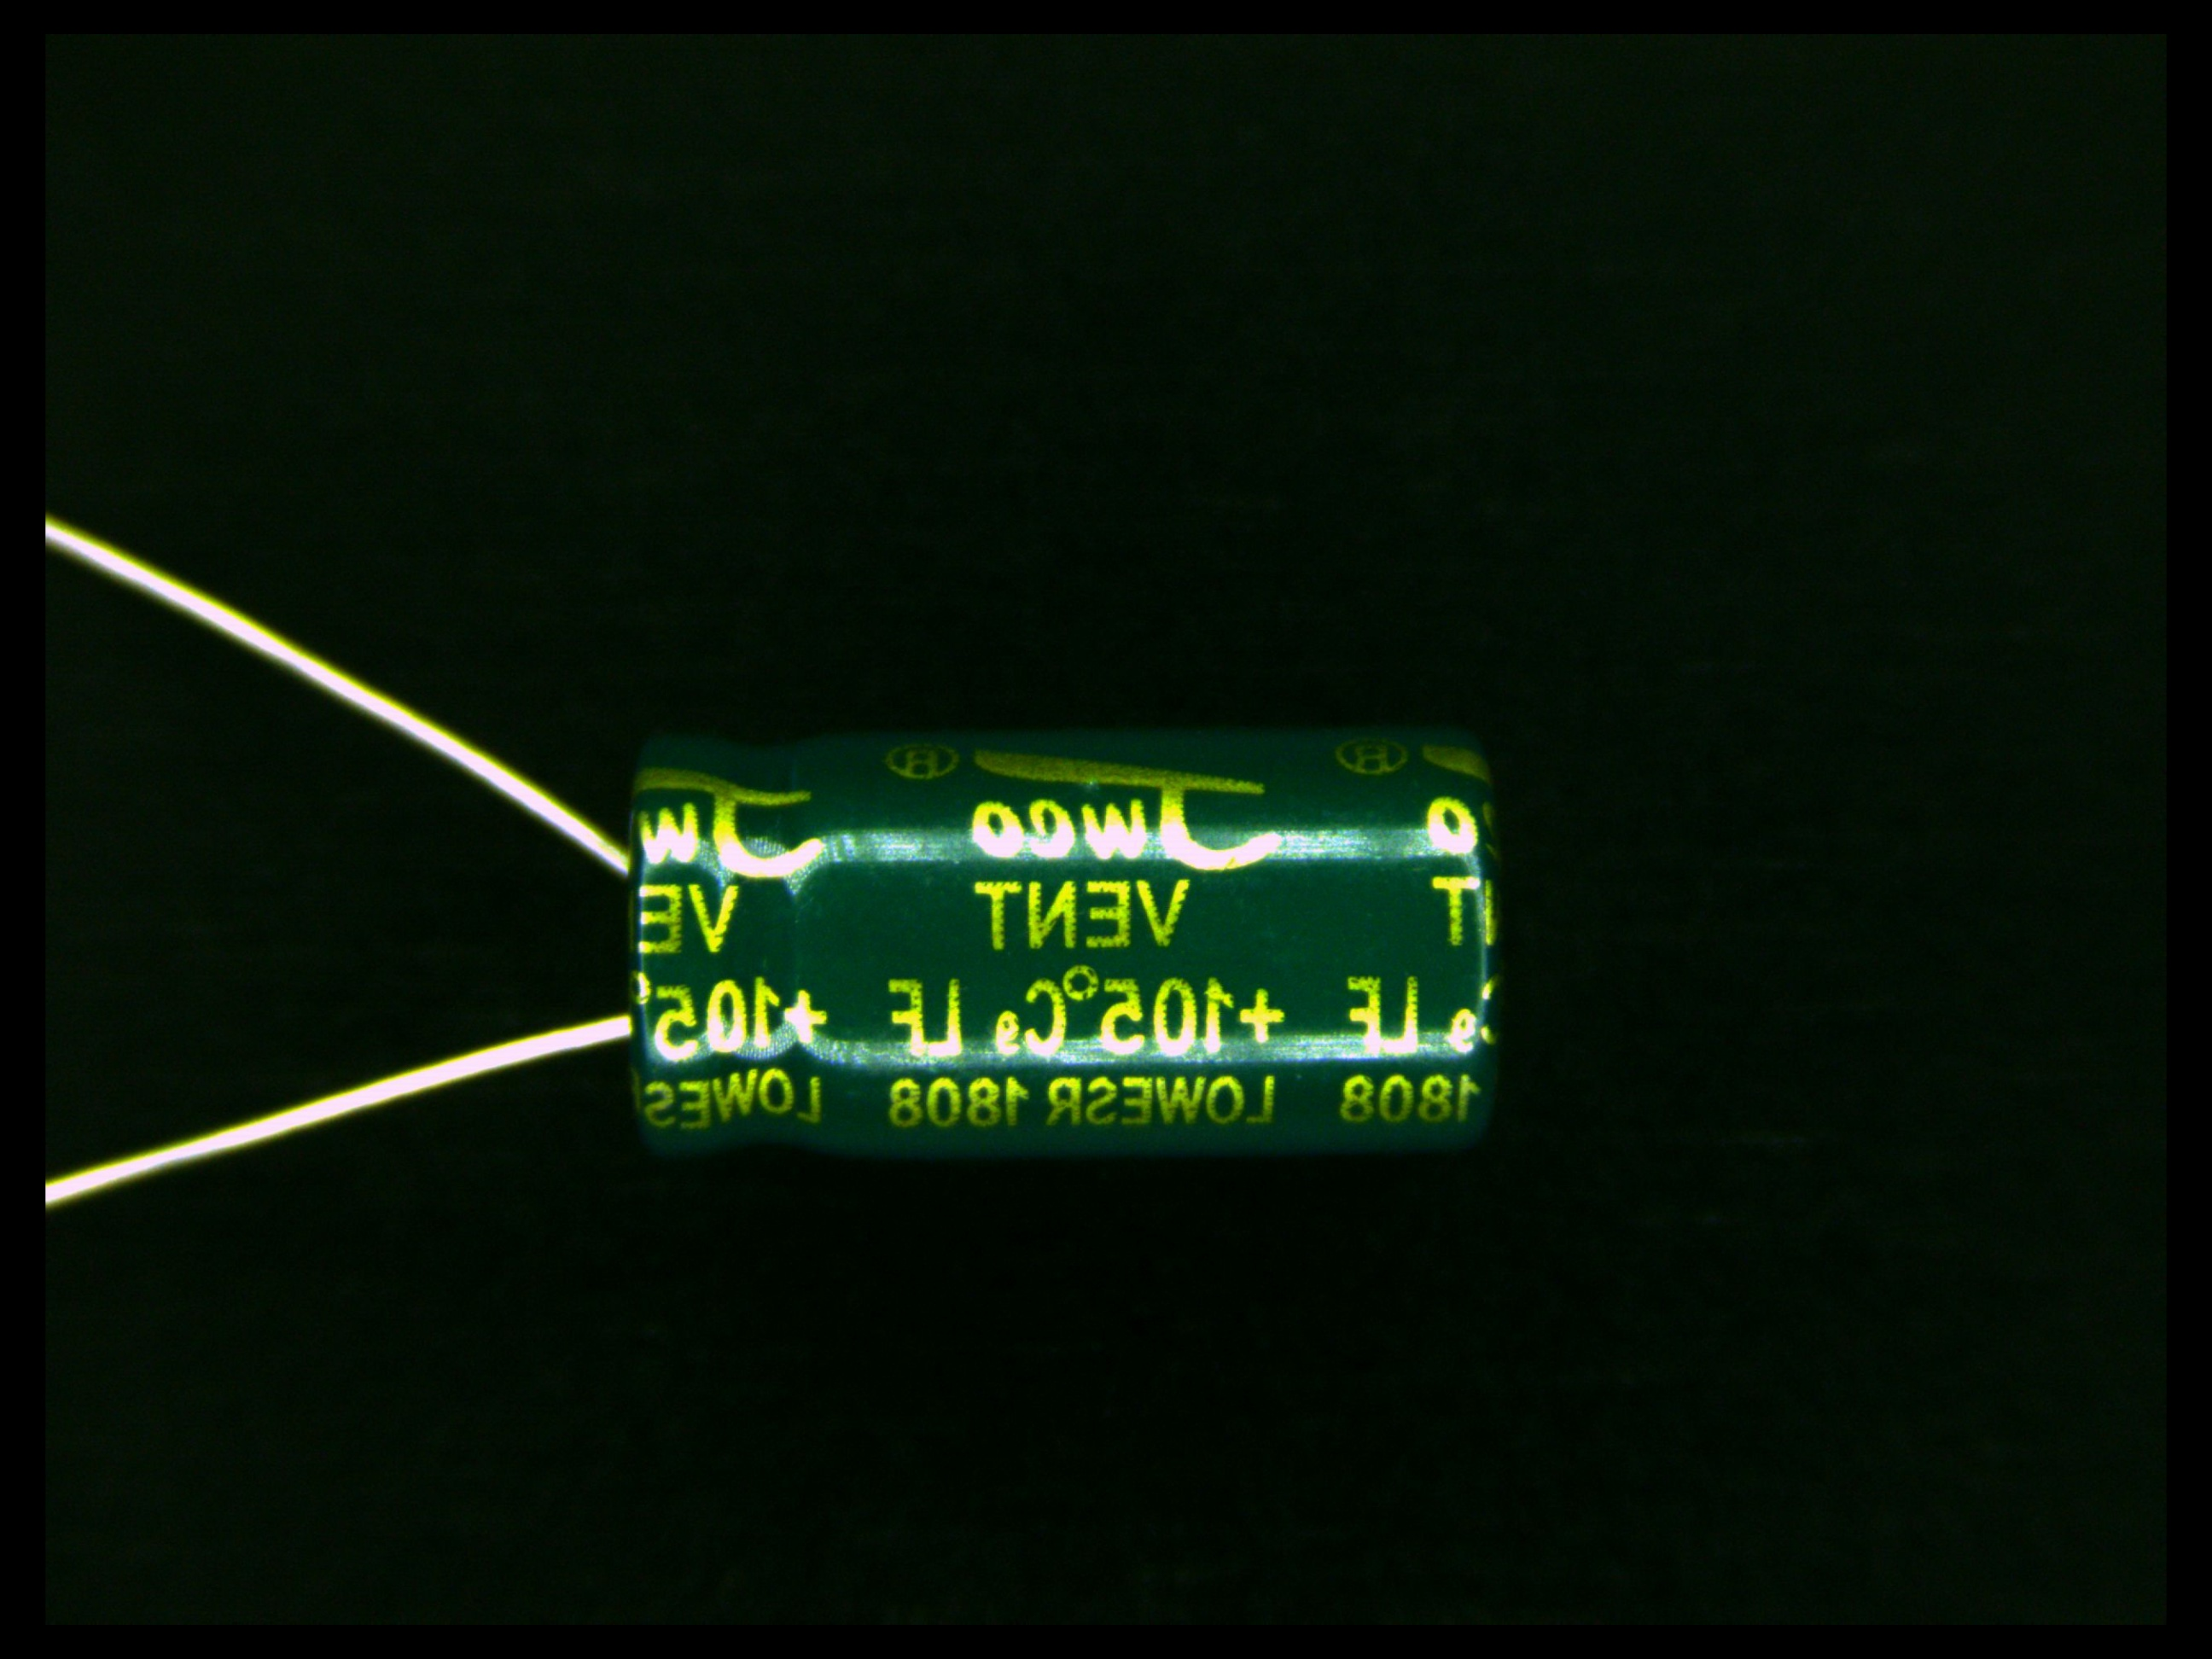c1: (449, 723, 1500, 1173)
